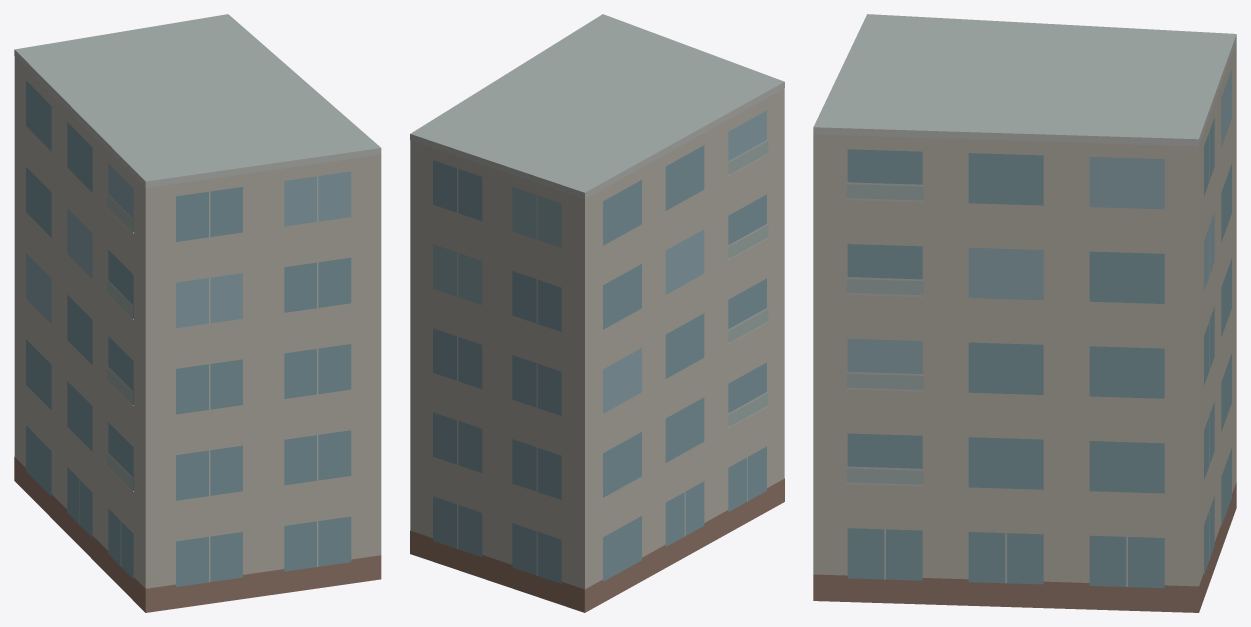
File: survey-upis-32943182.glb
The picture shows the model from 3 angles, left to right: view 1: azimuth 30°, elevation 25°; view 2: azimuth 150°, elevation 25°; view 3: azimuth 270°, elevation 25°; orthographic projection. The views are drawn at different scales.
Parts seen in each view (by area): view 1: survey-upis-32943182.tmp; view 2: survey-upis-32943182.tmp; view 3: survey-upis-32943182.tmp.
Boxes of the visible parts, x1=… form: survey-upis-32943182.tmp: x1=14, y1=14, x2=381, y2=612; survey-upis-32943182.tmp: x1=410, y1=14, x2=784, y2=612; survey-upis-32943182.tmp: x1=813, y1=14, x2=1236, y2=612.
Size of the model in its own units: 9.14 by 16.1 by 13.05.
